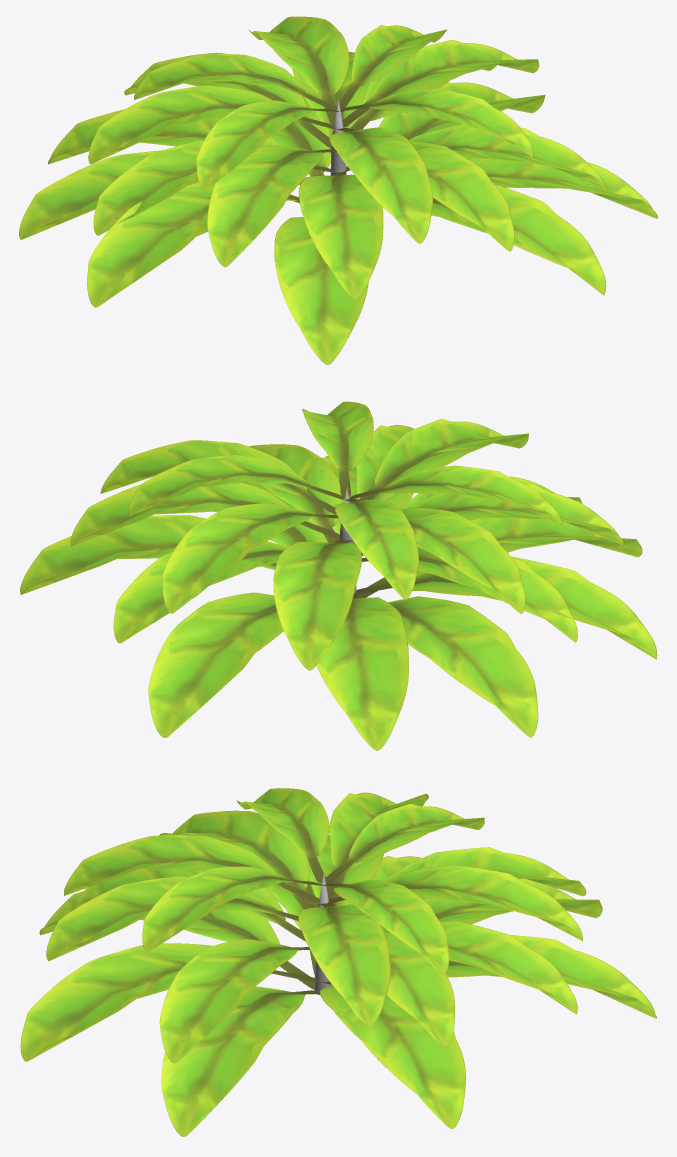
The model's file is shrub.fbx.
3 views of the same model, one above another, from view 1: azimuth 30°, elevation 25°; view 2: azimuth 150°, elevation 25°; view 3: azimuth 270°, elevation 25° (orthographic). The views are drawn at different scales.
Parts seen in each view (by area): view 1: shrub; view 2: shrub; view 3: shrub.
Part boxes in pixels (box(x1,y1,x2,y2)): shrub: box(19, 16, 657, 364); shrub: box(20, 401, 657, 750); shrub: box(20, 788, 656, 1136).
Bounding box in the file's own units: 147 × 39.62 × 147.
